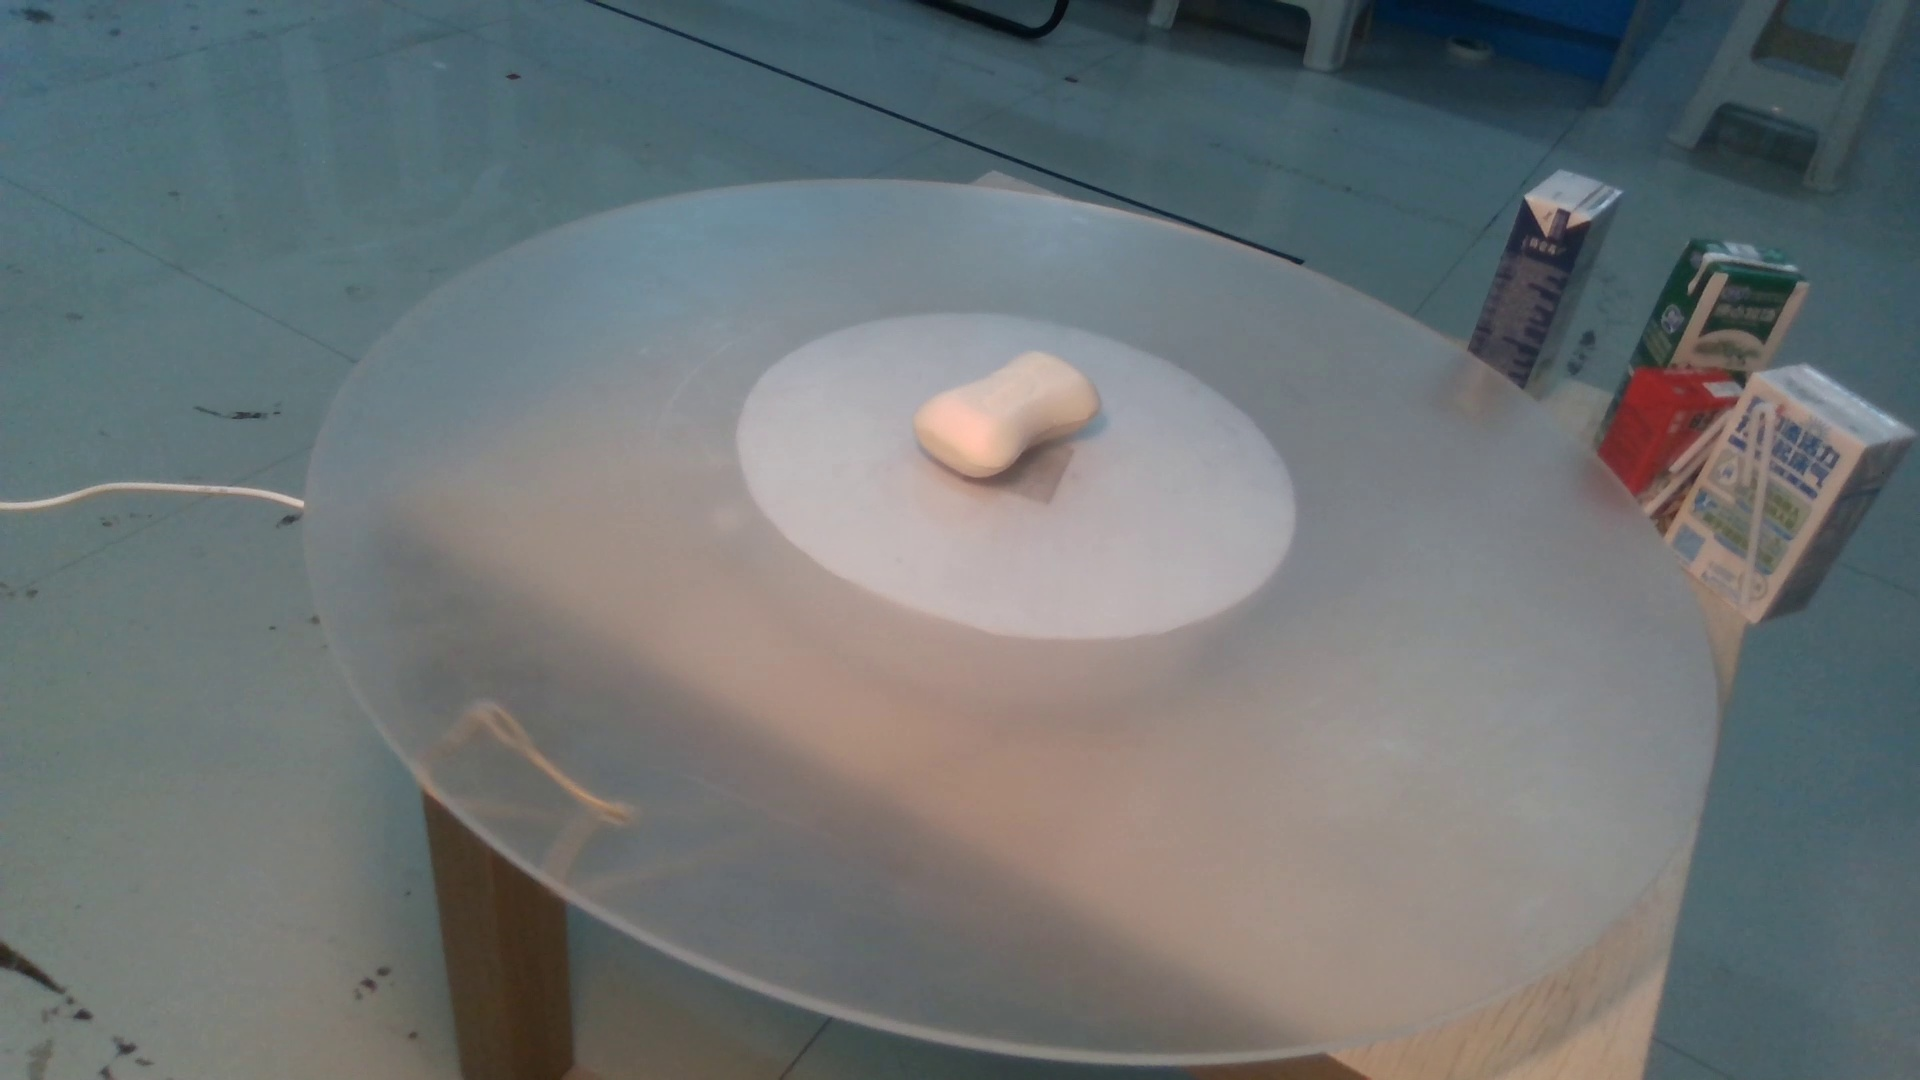CA003_1: (905, 338, 1134, 508)
